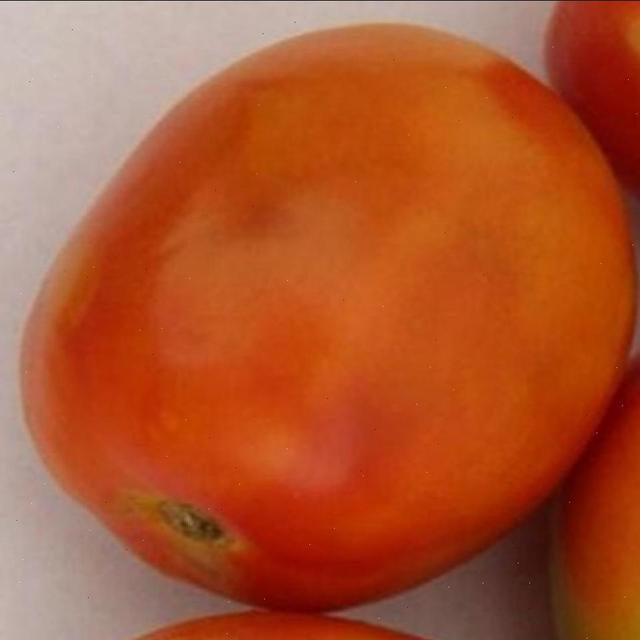Spotted wilt Virus Fruit: (20, 18, 427, 411)
